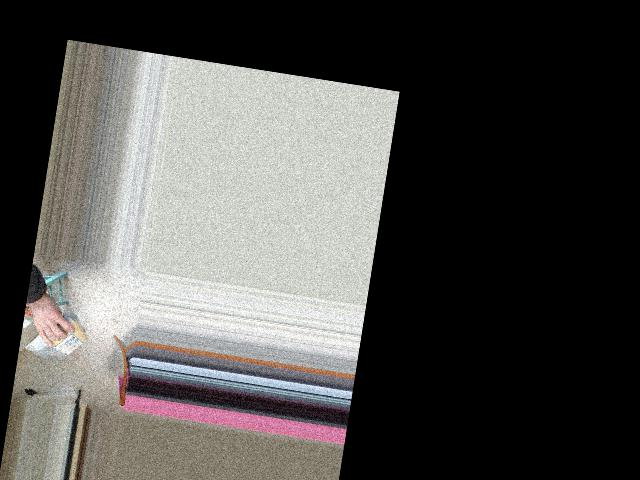cheese: (25, 310, 89, 362)
